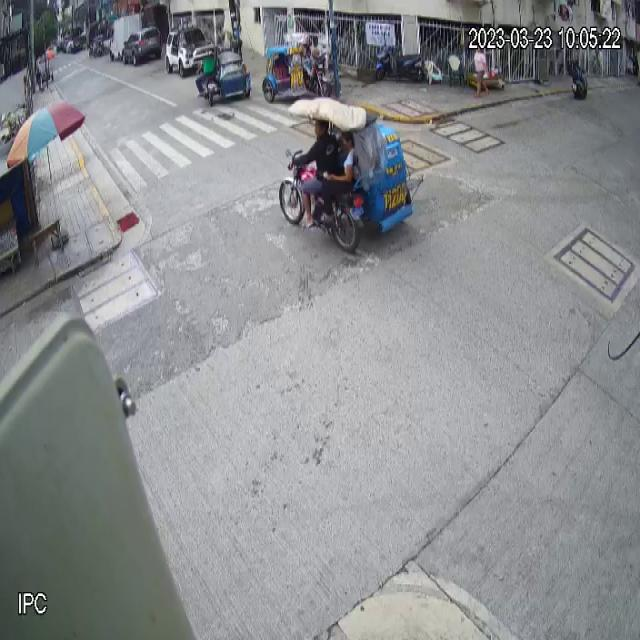Tricycle: (278, 96, 424, 255), (261, 30, 333, 102), (194, 42, 253, 110)
